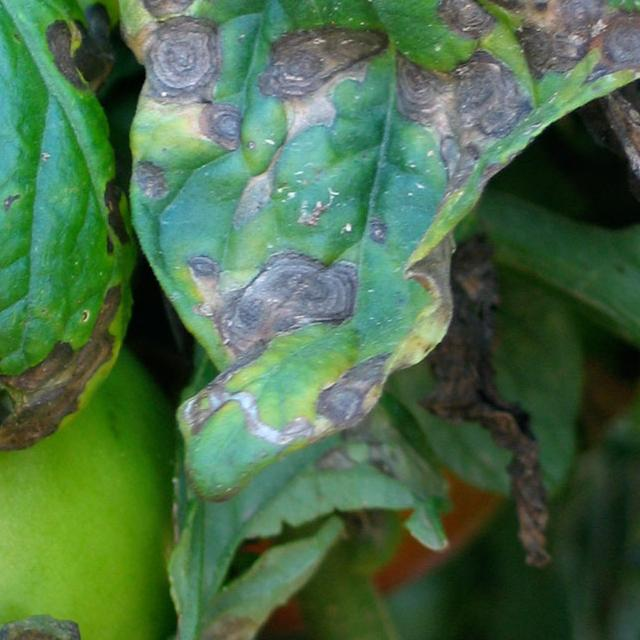Tomato Early blight leaf: (0, 0, 623, 473), (0, 0, 174, 485), (0, 0, 23, 640)
